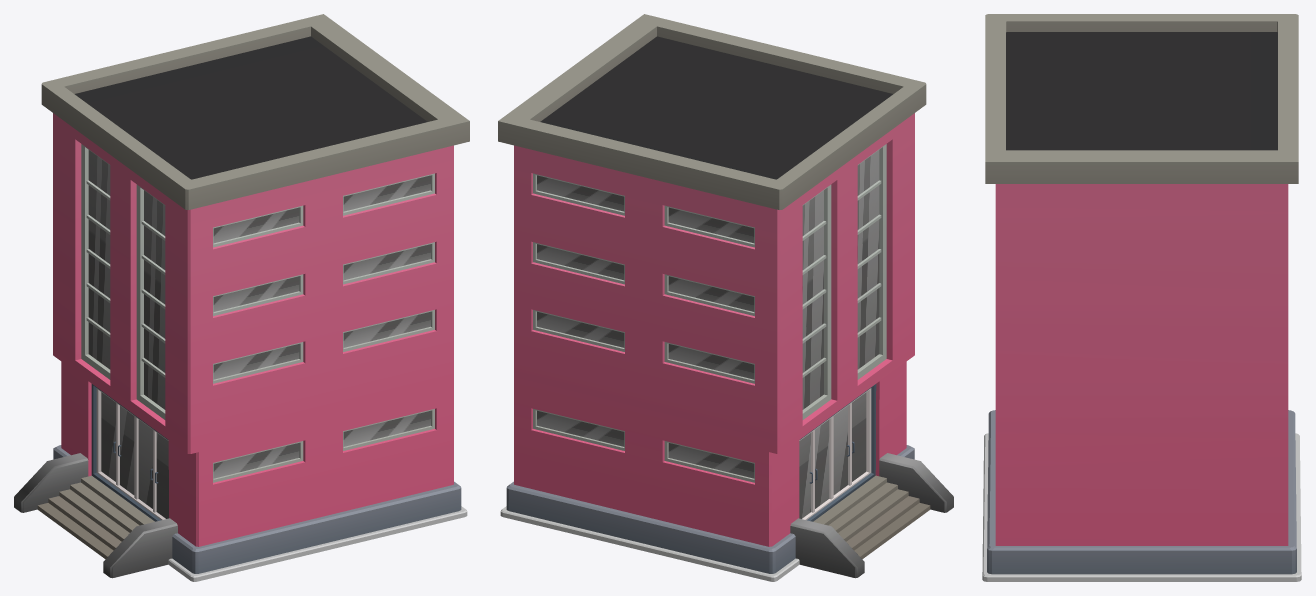
File: Building_26_B.glb
3 views of the same model, side by side, from view 1: azimuth 30°, elevation 25°; view 2: azimuth 150°, elevation 25°; view 3: azimuth 270°, elevation 25° (orthographic). The views are drawn at different scales.
Visible parts, largest first — view 1: Building_26_B; view 2: Building_26_B; view 3: Building_26_B.
Boxes of the visible parts, x1,y1,x2,y2 form: Building_26_B: (14,14,469,581); Building_26_B: (498,14,953,581); Building_26_B: (982,14,1301,581).
Size of the model in its own units: 9.23 by 10.37 by 7.12.
Materials: 3 (3 with a texture image).
